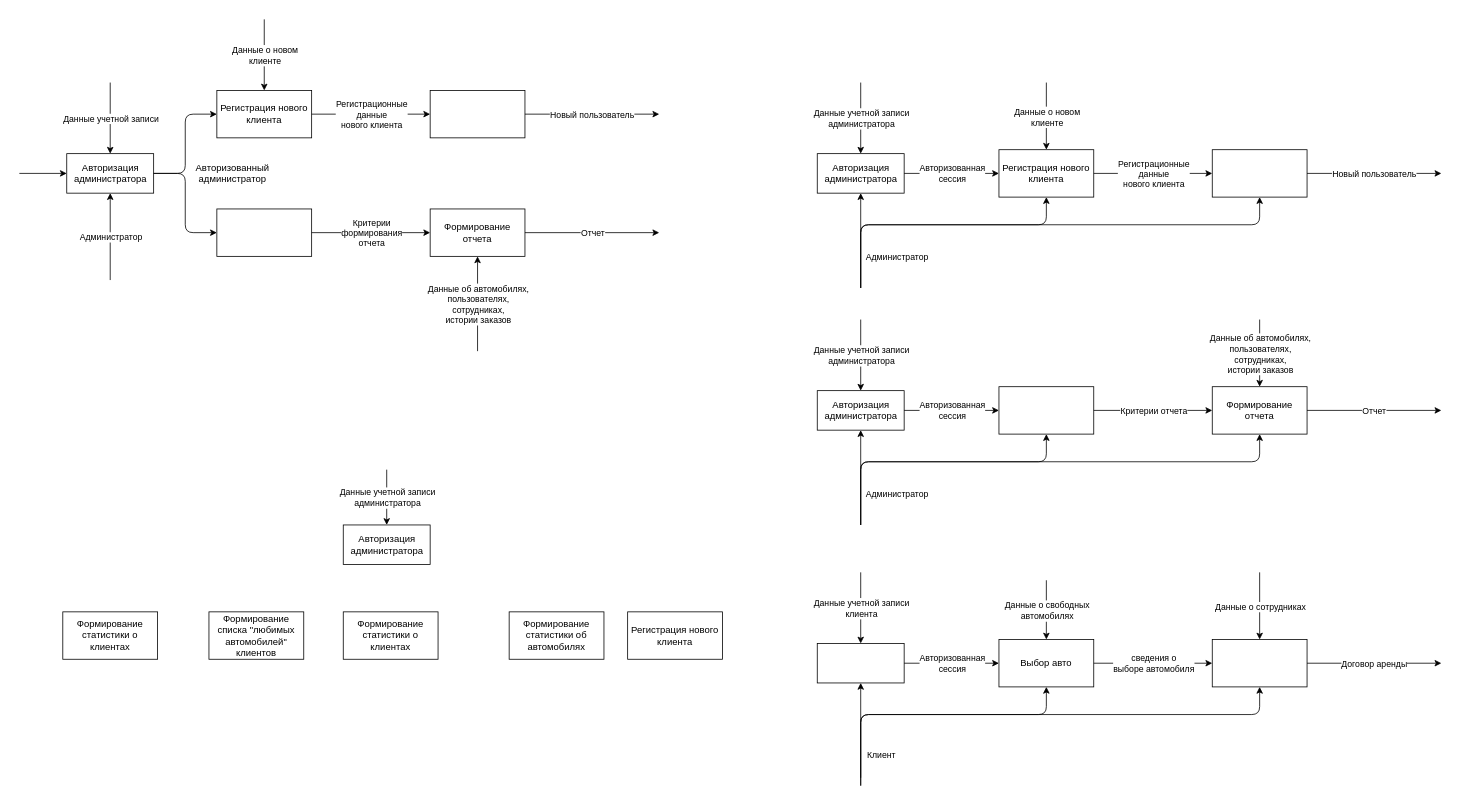
Some shapes in this 1462 by 806 pixel diagram are drawn without their labels. The box of each missing label's shape, as (x1, y1, x2, y2) in pixels:
Авторизация клиента: (816, 643, 904, 683)
Выбор вида отчета: (998, 386, 1094, 434)
Выбор отчета: (216, 208, 312, 256)
Заключение договора аренды: (1211, 639, 1307, 687)
Запись информации клиенте в БД: (429, 90, 525, 138)
Запись информации о клиенте в БД: (1211, 149, 1307, 197)
